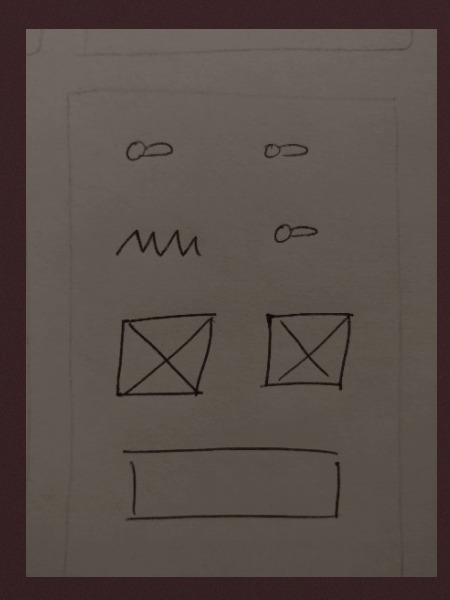image: (98, 306, 229, 406), (250, 303, 364, 401)
switch: (254, 133, 322, 176), (263, 215, 331, 253), (119, 131, 183, 168)
text_input: (103, 438, 358, 533), (106, 219, 217, 264)
